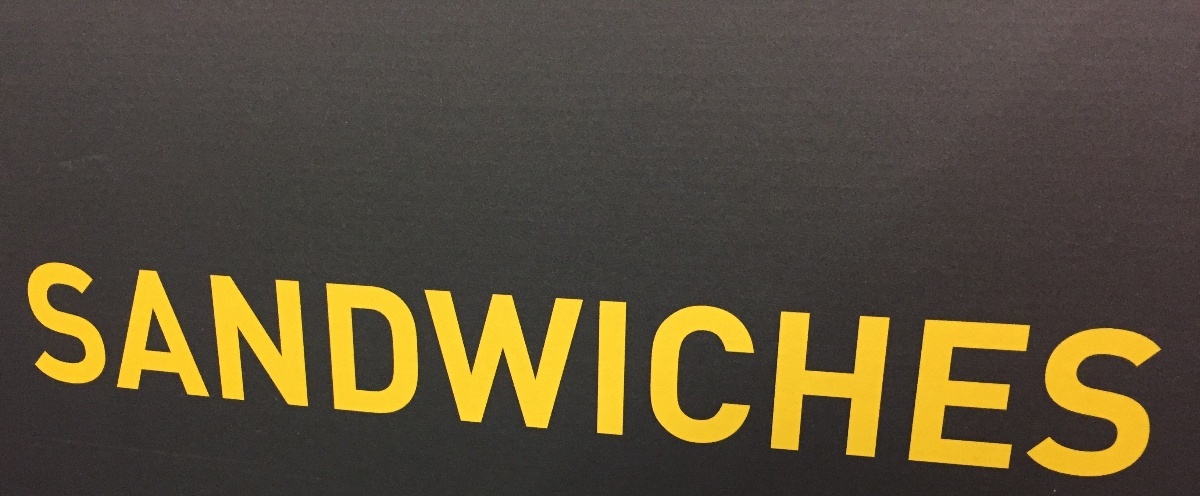text: (33, 260, 48, 484), (49, 260, 64, 484), (65, 260, 80, 484), (81, 260, 96, 484), (97, 260, 112, 484), (113, 260, 128, 484), (129, 260, 144, 484), (145, 260, 160, 484), (161, 260, 176, 484), (177, 260, 192, 484), (193, 260, 208, 484), (209, 260, 224, 484), (225, 260, 240, 484), (241, 260, 256, 484), (257, 260, 272, 484), (273, 260, 288, 484), (289, 260, 304, 484), (305, 260, 320, 484), (321, 260, 336, 484), (337, 260, 352, 484), (353, 260, 368, 484), (369, 260, 384, 484), (385, 260, 400, 484), (401, 260, 416, 484), (417, 260, 432, 484), (433, 260, 448, 484), (449, 260, 464, 484), (465, 260, 480, 484), (481, 260, 496, 484), (497, 260, 512, 484), (513, 260, 528, 484), (529, 260, 544, 484), (545, 260, 560, 484), (561, 260, 576, 484), (577, 260, 592, 484), (593, 260, 608, 484), (609, 260, 624, 484), (625, 260, 640, 484), (641, 260, 656, 484), (657, 260, 672, 484), (673, 260, 688, 484), (689, 260, 704, 484), (705, 260, 720, 484), (721, 260, 736, 484), (737, 260, 752, 484), (753, 260, 768, 484), (769, 260, 784, 484), (785, 260, 800, 484), (801, 260, 816, 484), (817, 260, 832, 484), (833, 260, 848, 484), (849, 260, 864, 484), (865, 260, 880, 484), (881, 260, 896, 484), (897, 260, 912, 484), (913, 260, 928, 484), (929, 260, 944, 484), (945, 260, 960, 484), (961, 260, 976, 484), (977, 260, 992, 484), (993, 260, 1008, 484), (1009, 260, 1024, 484), (1025, 260, 1040, 484), (1041, 260, 1056, 484), (1057, 260, 1072, 484), (1073, 260, 1088, 484), (1089, 260, 1104, 484), (1105, 260, 1120, 484), (1121, 260, 1136, 484), (1137, 260, 1152, 484), (1153, 260, 1167, 484), (29, 260, 32, 484)
